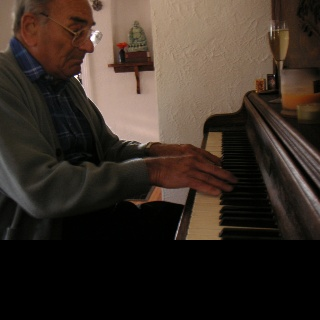without_mask: (37, 0, 94, 74)
